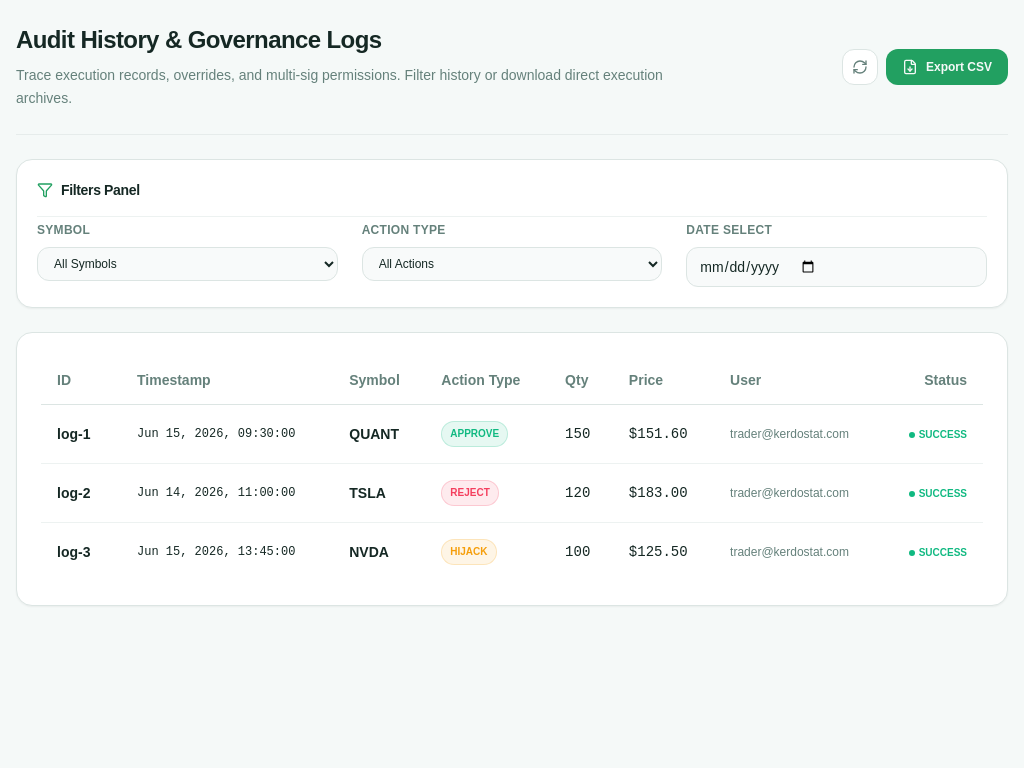
Scenario: AuditLogPage Component › filters logs by action type correctly
The width and height of the screenshot is (1024, 768).
Expected: the number of rows with test id "log-row" is 3, left=41, top=404, right=983, bottom=464; left=41, top=464, right=983, bottom=522; left=41, top=522, right=983, bottom=581
Select "HIJACK OVERRIDE" in the dropdown with test id "filter-action" at (512, 264), box left=362, top=246, right=662, bottom=280
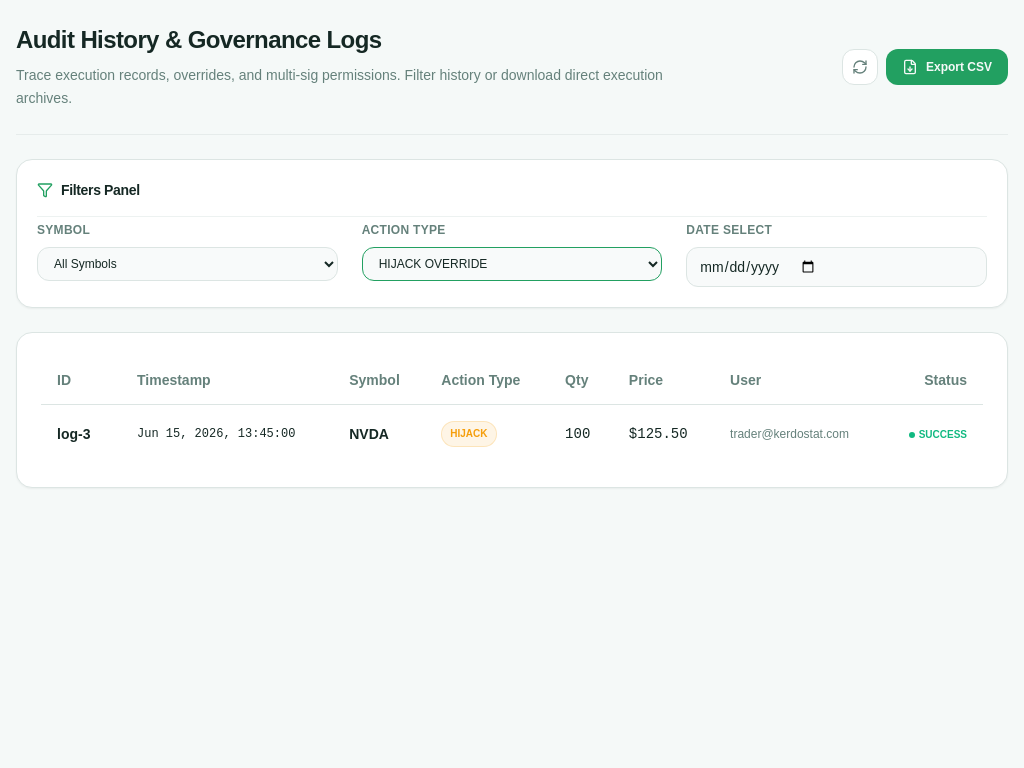
Expected: the number of rows with test id "log-row" is 1, left=41, top=404, right=983, bottom=463
Expected: the text "NVDA" is shown 2 times
